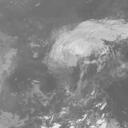cyclone: (50, 21, 119, 68)
